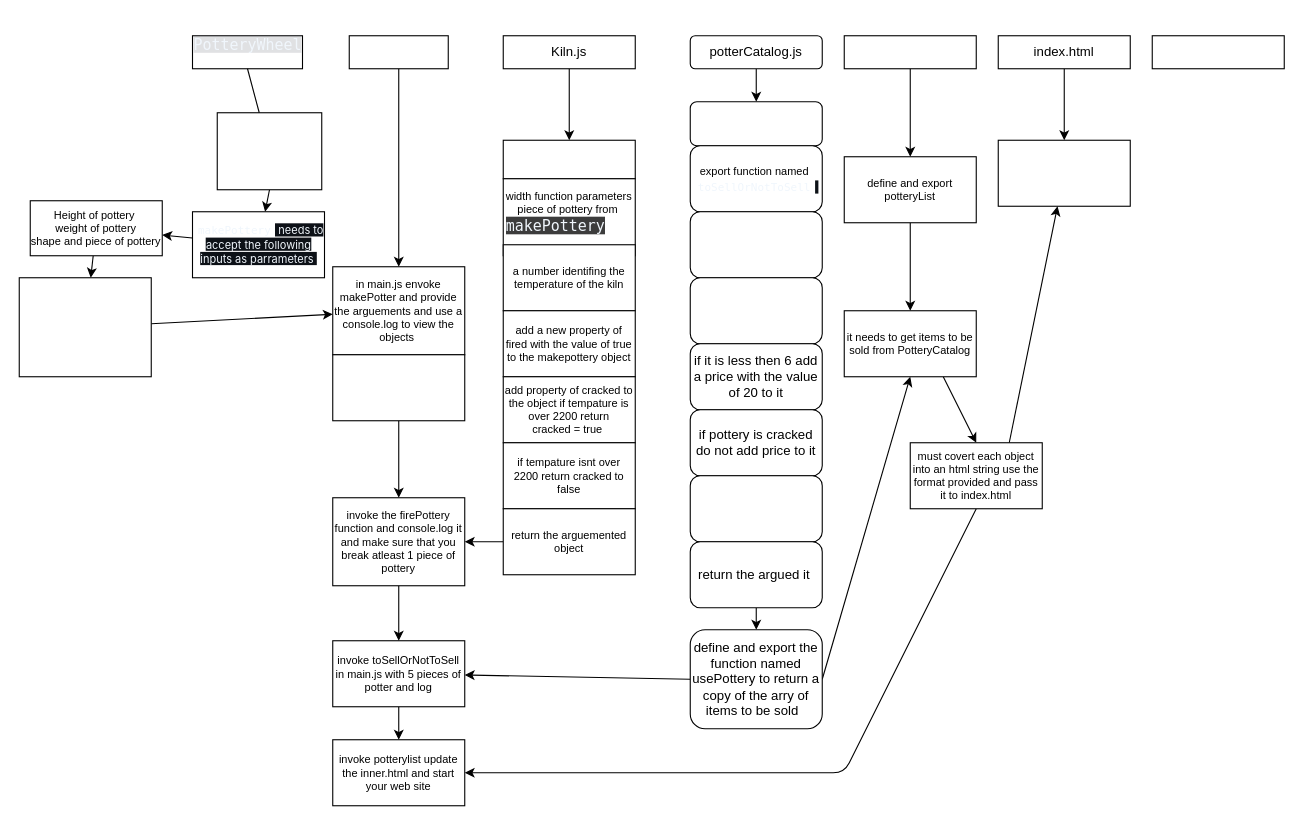
The diagram is 1304 pixels wide and 825 high, and some of its shapes have lost their labels. The shapes that lost their labels are listed below. From the top down, each one's centre as x and y in pixels, then its label:
At (398,52): "main.js".
At (909,52): "potteryList".
At (1217,52): "main.css".
At (755,123): "define a var with an empty array".
At (269,151): "Define and export a function named makePottery".
At (568,159): "define FirePottery".
At (1063,172): "create an article element with the class potterList".
At (755,244): "toSellOrNotToSell sould accept pottery object as an input".
At (84,327): "the Makepottery function returns the following properties shape weight height id".
At (755,310): "if the weight is greater or equal add a price value of 40 to it".
At (398,387): "mae 5 pieces of pottery one you know it works and push to github".
At (755,508): "add it to a array to be sold".
